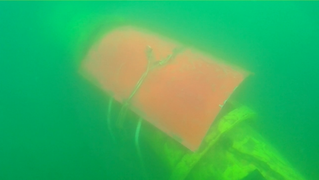leak: (78, 19, 251, 151)
pip: (115, 99, 307, 180)
pipe: (49, 1, 127, 77)
